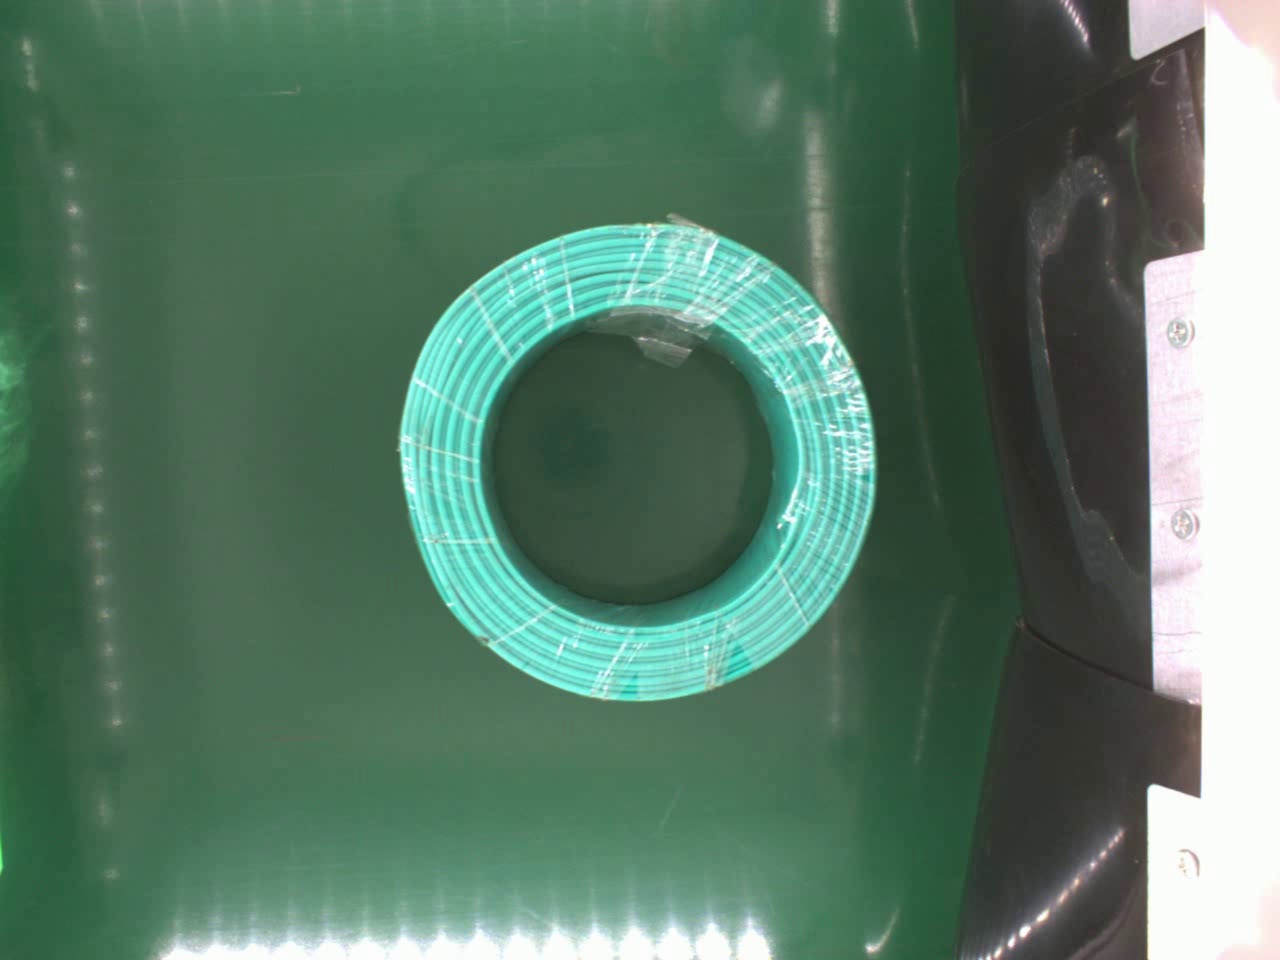green: (390, 214, 882, 709)
